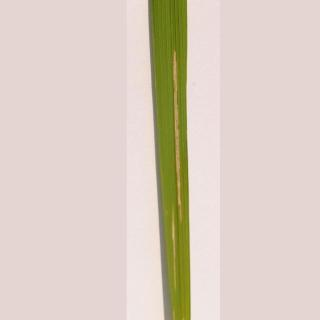Hawar-Daun: (144, 51, 200, 320)
